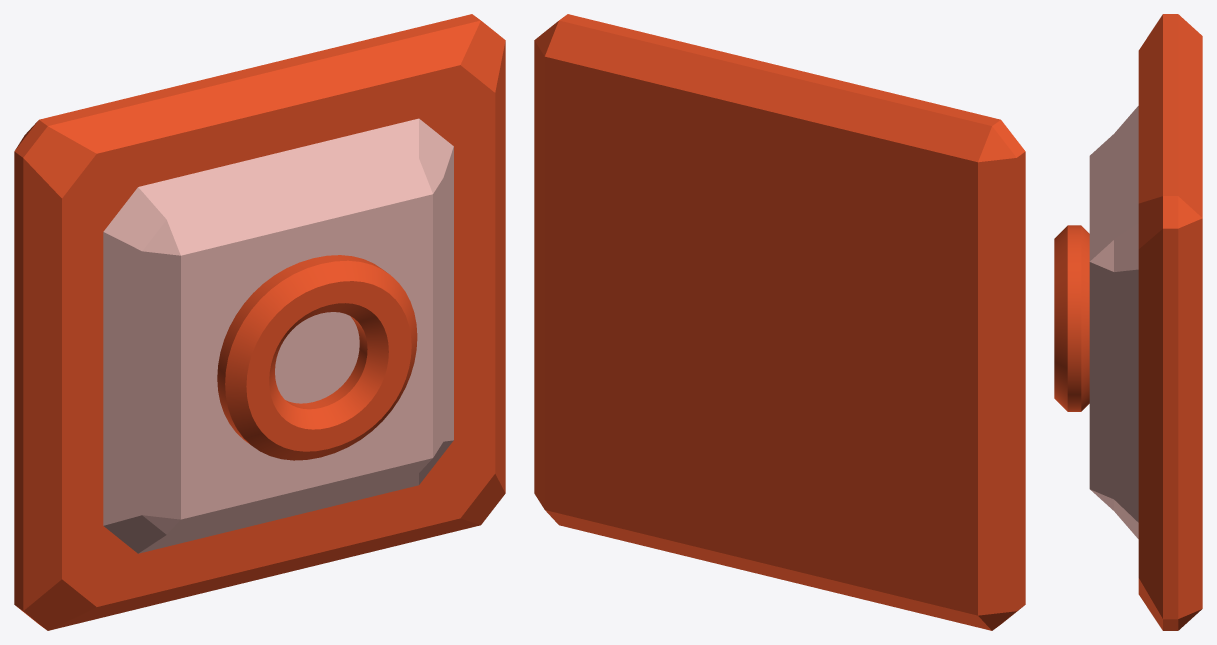
File: Circle Button.fbx
The picture shows the model from 3 angles, left to right: view 1: azimuth 30°, elevation 25°; view 2: azimuth 150°, elevation 25°; view 3: azimuth 270°, elevation 25°; orthographic projection. The views are drawn at different scales.
Parts seen in each view (by area): view 1: Circle Button; view 2: Circle Button; view 3: Circle Button.
Part boxes in pixels (x1,y1,x2,y2): Circle Button: (14,14,505,630); Circle Button: (534,14,1025,630); Circle Button: (1054,14,1202,630).
Bounding box in the file's own units: 67.76 × 67.76 × 20.96.
